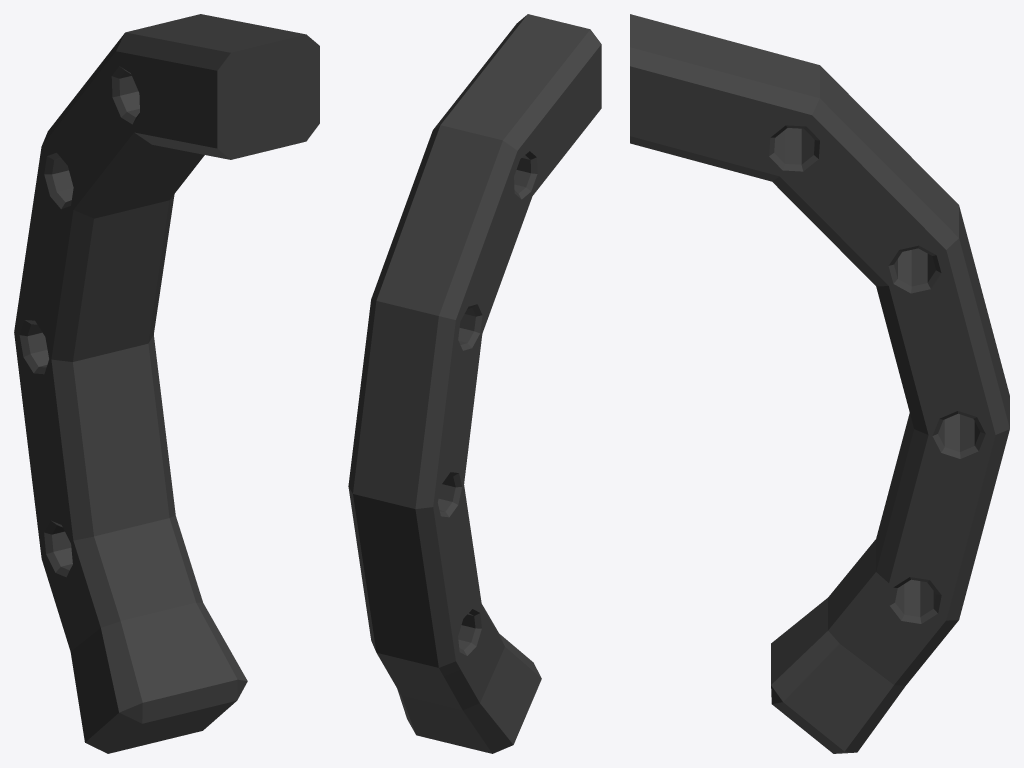
File: HerraduraRotaIzq.fbx
3 views of the same model, side by side, from view 1: azimuth 30°, elevation 25°; view 2: azimuth 150°, elevation 25°; view 3: azimuth 270°, elevation 25° (orthographic). The views are drawn at different scales.
Visible parts, largest first — view 1: HerraduraRota2; view 2: HerraduraRota2; view 3: HerraduraRota2.
Part boxes in pixels (<box>): HerraduraRota2: <box>14,14,319,753</box>; HerraduraRota2: <box>348,14,601,753</box>; HerraduraRota2: <box>630,14,1009,753</box>.
Bounding box in the file's own units: 3.79 × 22 × 10.78.
